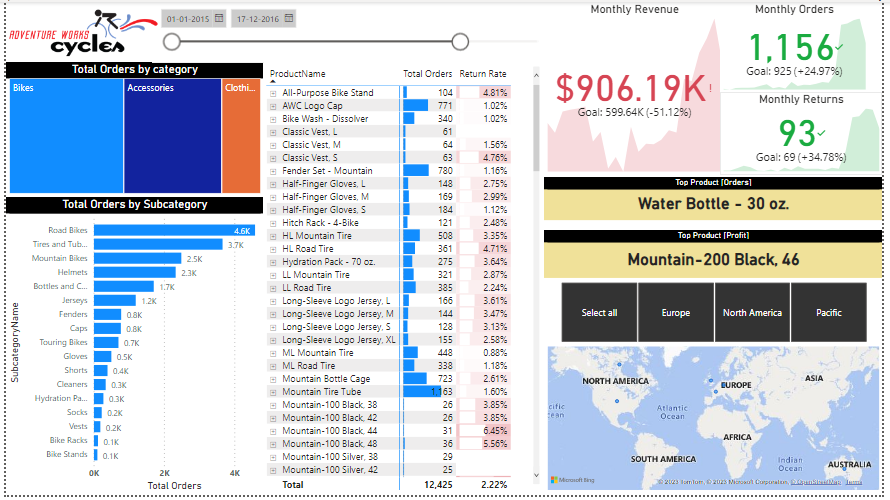

The page's visual inventory and layout, read from the dashboard file:
{"tool":"powerbi","page":{"name":"Exec Summery","canvas":[1280,720],"ordinal":0},"visuals":[{"type":"barChart","title":"Total Orders by Subcategory","fields":{"Category":["AW_Product_Subcategories_lookup.SubcategoryName"],"Y":["AW_sales.Total Orders"]},"box":[0,285,376.7,435],"z":0},{"type":"treemap","title":"Total Orders by category","fields":{"Group":["AW_Product_Subcategories_lookup.SubcategoryName","AW_Product_Categories_lookup.CategoryName"],"Values":["AW_sales.Total Orders"]},"box":[0,88.3,376.7,196.7],"z":1000},{"type":"pivotTable","fields":{"Rows":["AW_Product_Lookup.ProductName","AW_Product_Categories_lookup.CategoryName","AW_Product_Subcategories_lookup.SubcategoryName"],"Values":["AW_sales.Total Orders","AW_sales.Return Rate"]},"box":[375.3,89.1,408.9,629.5],"z":2000},{"type":"slicer","fields":{"Values":["AW_Calendar_lookup.Date"]},"box":[213.2,0,585.6,89.1],"z":3000},{"type":"kpi","title":"Monthly Revenue ","fields":{"Indicator":["AW_sales.Total Revenue"],"TrendLine":["AW_Calendar_lookup.Start of Month"],"Goal":["AW_sales.Prev Month Revenue"]},"box":[785,0,265,253.3],"z":4000},{"type":"kpi","title":" Monthly Orders ","fields":{"TrendLine":["AW_Calendar_lookup.Start of Month"],"Indicator":["AW_sales.Total Orders"],"Goal":["AW_sales.Prev Month Orders"]},"box":[1042.8,0,217.6,132.9],"z":5000},{"type":"kpi","title":"Monthly Returns ","fields":{"TrendLine":["AW_Calendar_lookup.Start of Month"],"Goal":["AW_Returns.Prev Month Returns"],"Indicator":["AW_Returns.Total Returns"]},"box":[1042.5,131.6,237.5,121.3],"z":6000},{"type":"card","title":"Top Product [Orders]","fields":{"Values":["Min(AW_Product_Lookup.ProductName)"]},"box":[785,255,495,63.3],"z":7000},{"type":"card","title":"Top Product [Profit]","fields":{"Values":["Min(AW_Product_Lookup.ProductName)"]},"box":[785,333.3,495,70],"z":8000},{"type":"map","fields":{"Category":["AW_Territories_lookup.Country"]},"box":[785,475,495,243.3],"z":9000},{"type":"slicer","fields":{"Values":["AW_Territories_lookup.Continent"]},"box":[785,403.3,495,100],"z":10000},{"type":"image","box":[0,0,229.3,89.1],"z":11000}]}

Visuals, with their boxes in screenshot pixels (x1, y1, x2, y2), scaled from the page's 1280x720 canvas onto the 890x500 screenshot:
"Total Orders by Subcategory" barChart: bbox(0, 198, 262, 499)
"Total Orders by category" treemap: bbox(0, 61, 262, 198)
pivotTable - AW_Product_Lookup.ProductName x AW_Product_Categories_lookup.CategoryName: bbox(261, 62, 545, 499)
slicer - AW_Calendar_lookup.Date: bbox(148, 0, 555, 62)
"Monthly Revenue " kpi: bbox(546, 0, 730, 176)
" Monthly Orders " kpi: bbox(725, 0, 876, 92)
"Monthly Returns " kpi: bbox(725, 91, 889, 176)
"Top Product [Orders]" card: bbox(546, 177, 889, 221)
"Top Product [Profit]" card: bbox(546, 231, 889, 280)
map - AW_Territories_lookup.Country: bbox(546, 330, 889, 499)
slicer - AW_Territories_lookup.Continent: bbox(546, 280, 889, 350)
image: bbox(0, 0, 159, 62)
